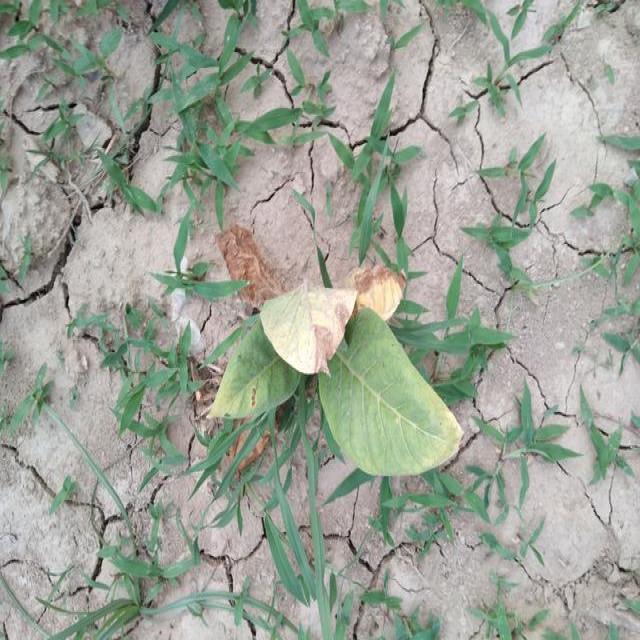crop: (198, 239, 456, 473)
